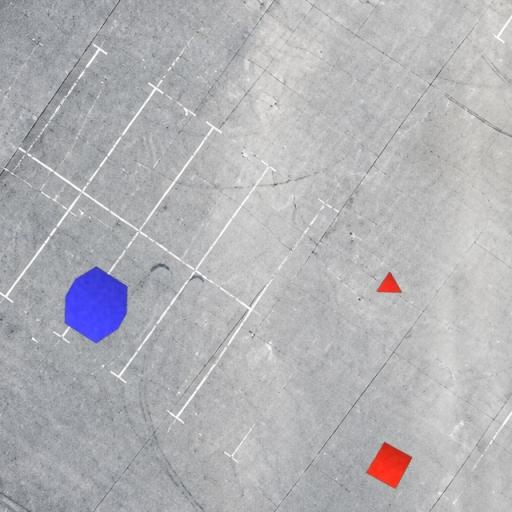RED_SQUARE: (366, 442, 412, 490)
